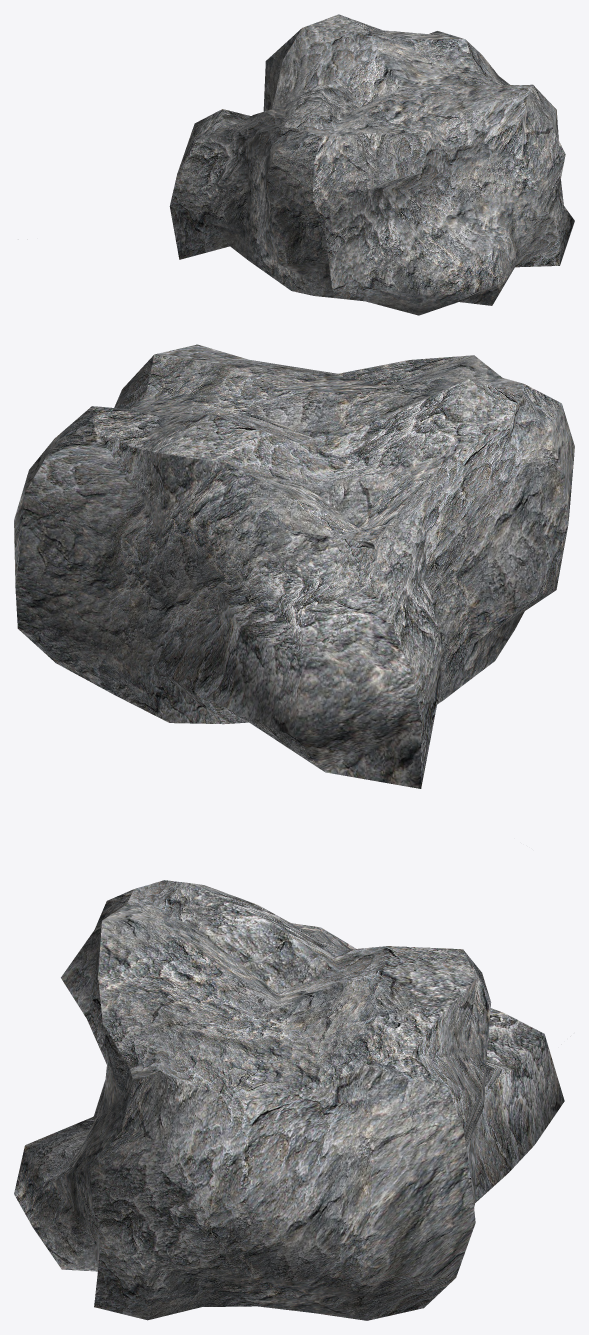
Rendered from rock2.fbx.
3 views of the same model, one above another, from view 1: azimuth 30°, elevation 25°; view 2: azimuth 150°, elevation 25°; view 3: azimuth 270°, elevation 25° (orthographic). The views are drawn at different scales.
Visible parts, largest first — view 1: pCube1; view 2: pCube1; view 3: pCube1.
Boxes of the visible parts, left/top/right/bottom form: pCube1: left=169, top=14, right=574, bottom=315; pCube1: left=14, top=344, right=574, bottom=788; pCube1: left=14, top=880, right=564, bottom=1320.
Bounding box in the file's own units: 14.32 × 6.53 × 10.94.
Materials: 2 (1 with a texture image).
